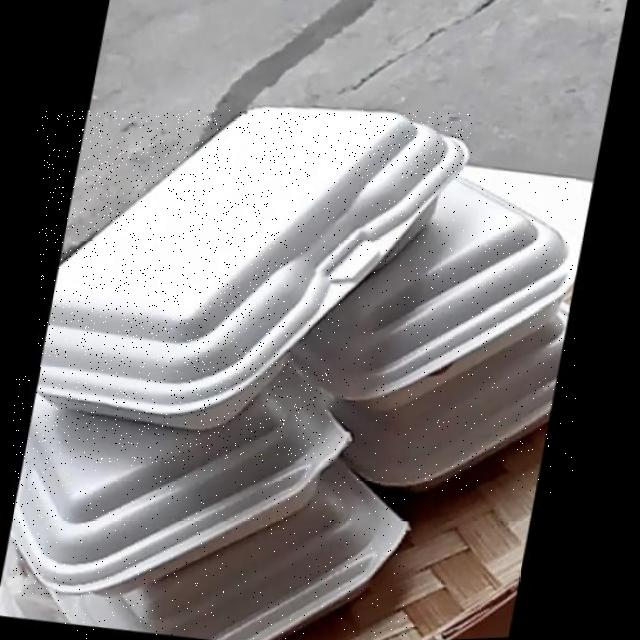styrofoam: (38, 111, 472, 438), (14, 367, 356, 596), (289, 179, 576, 414), (57, 463, 414, 640), (332, 310, 573, 493)
